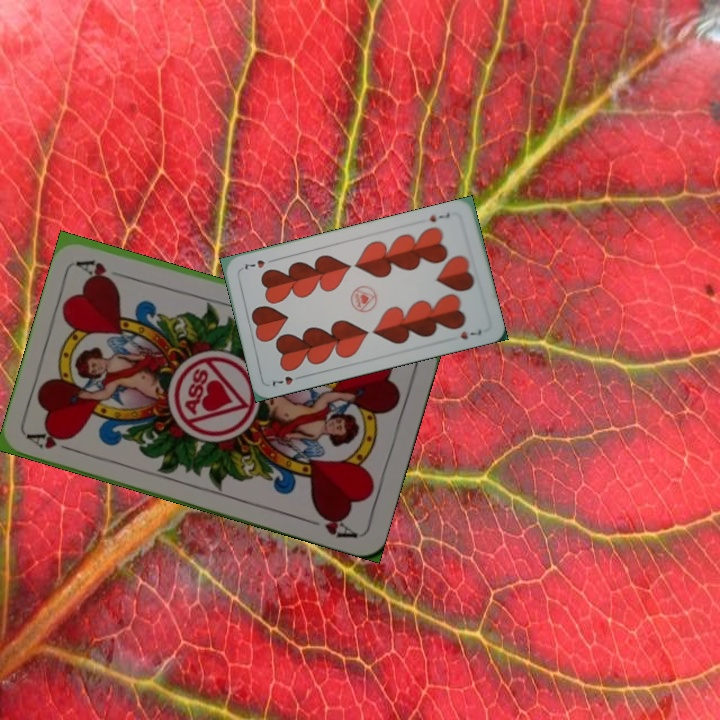H7: (268, 371, 306, 391), (425, 207, 452, 225)
HA: (24, 428, 83, 456)
